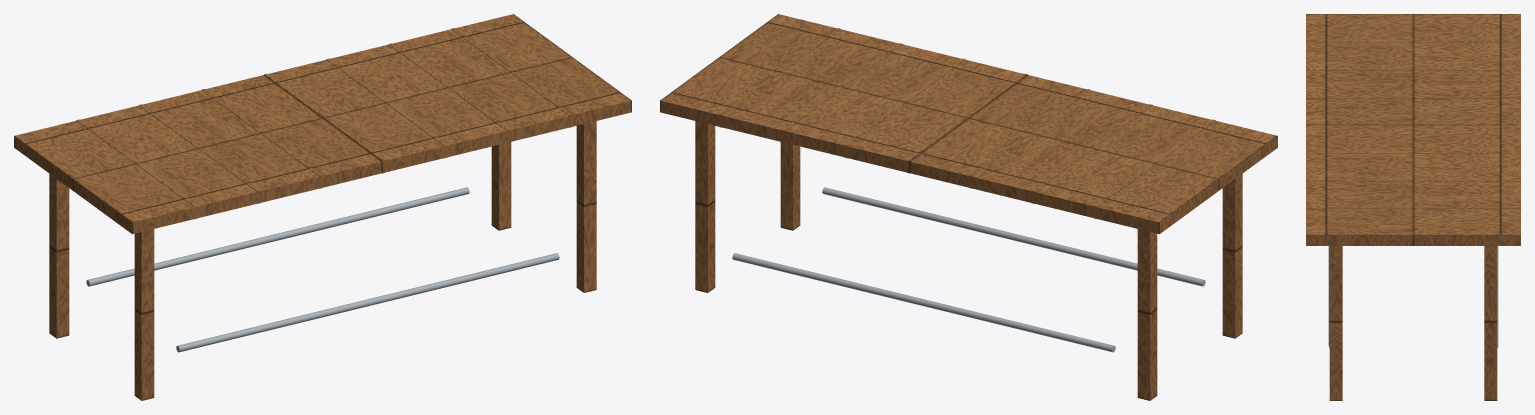
Rendered from Kerti_asztal_200.obj.
The picture shows the model from 3 angles, left to right: view 1: azimuth 30°, elevation 25°; view 2: azimuth 150°, elevation 25°; view 3: azimuth 270°, elevation 25°; orthographic projection. The views are drawn at different scales.
Bounding box in the file's own units: 2 × 0.742 × 0.82.
Materials: 2 (1 with a texture image).
